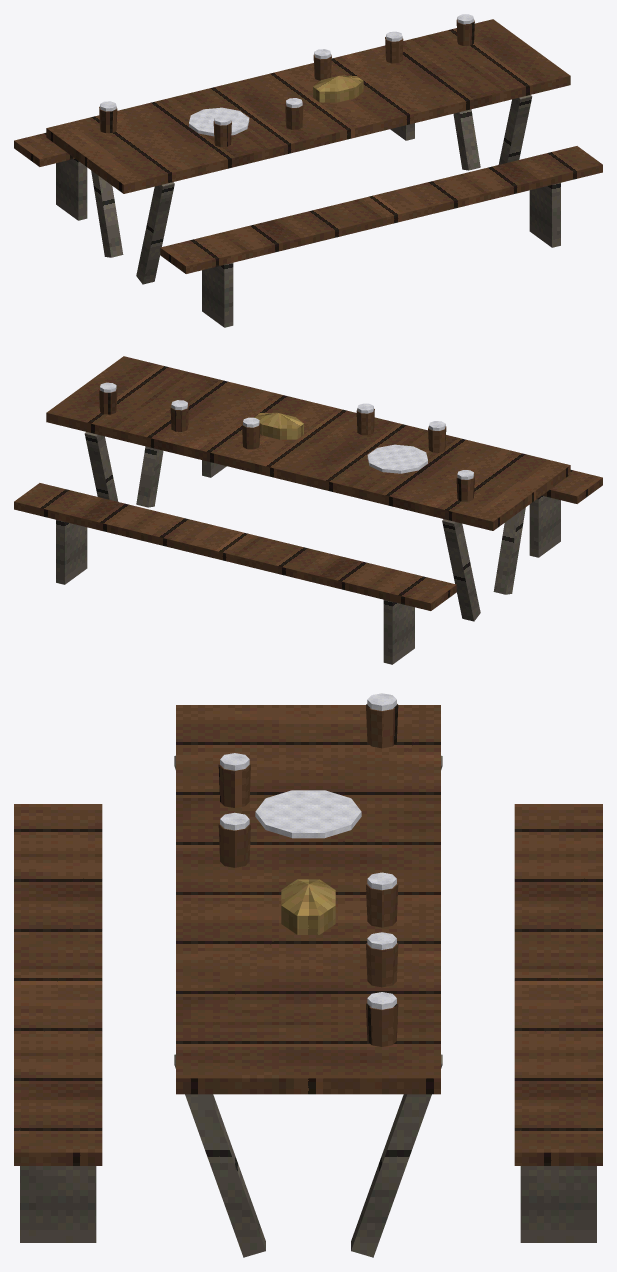
Rendered from mesa_larga.obj.
3 renders of one model, top to bottom at view 1: azimuth 30°, elevation 25°; view 2: azimuth 150°, elevation 25°; view 3: azimuth 270°, elevation 25°, orthographic. The views are drawn at different scales.
Visible parts, largest first — view 1: mesa_larga; view 2: mesa_larga; view 3: mesa_larga.
Part boxes in pixels (x1=…): mesa_larga: x1=14, y1=14, x2=602, y2=327; mesa_larga: x1=14, y1=356, x2=602, y2=664; mesa_larga: x1=14, y1=693, x2=602, y2=1257.
Size of the model in its own units: 3 by 0.9538 by 2.
Materials: 4 (4 with a texture image).
